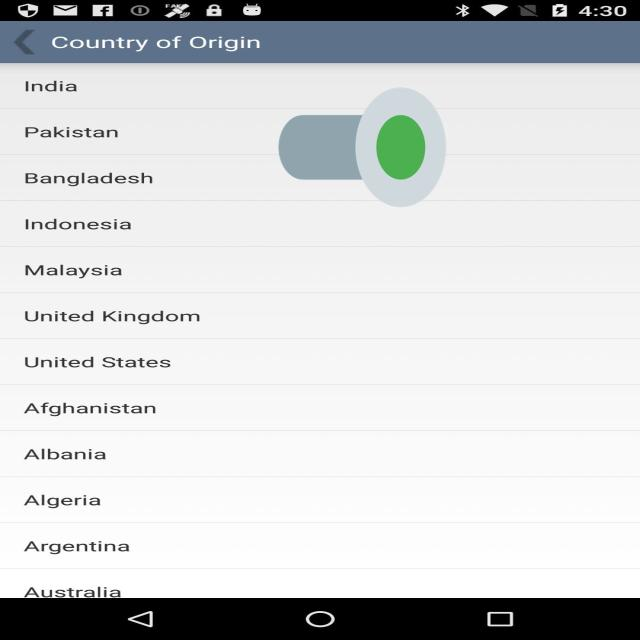social proof: (279, 37, 446, 258)
